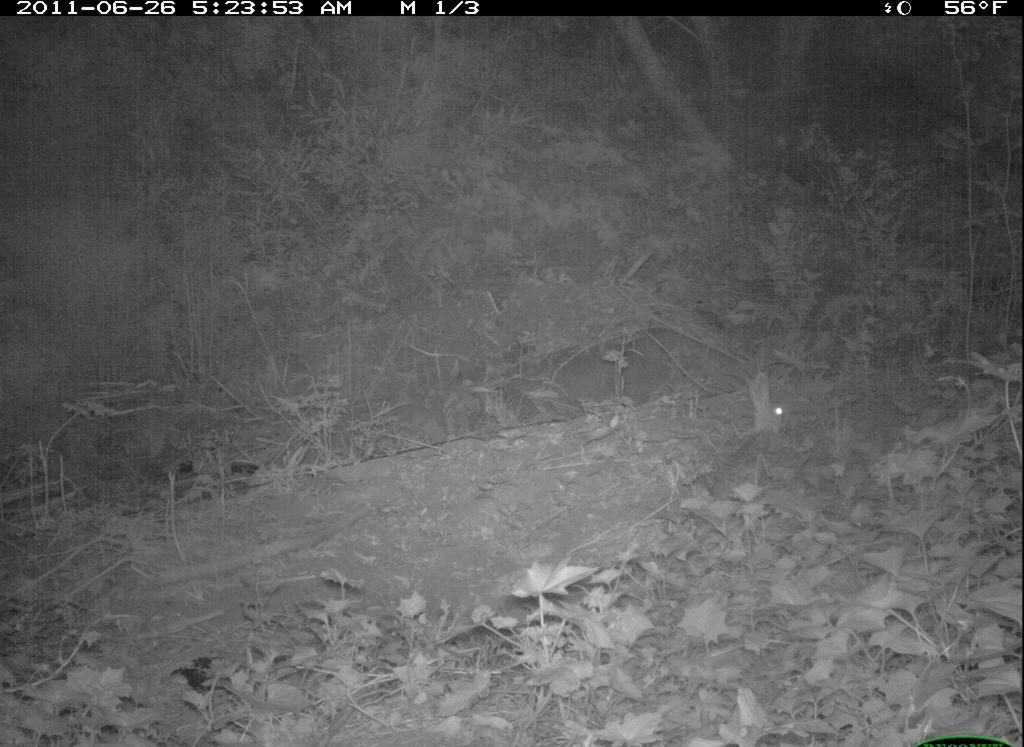rabbit: (713, 345, 836, 498)
